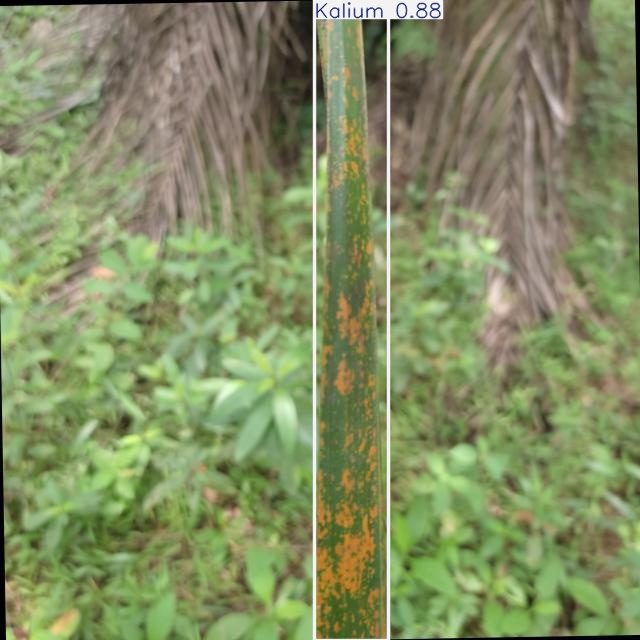Kalium: (315, 0, 388, 640)
